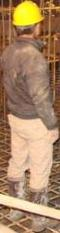boots: (7, 178, 28, 220), (29, 188, 49, 231)
gloves: (45, 128, 60, 144), (1, 0, 1, 0)
hard-hat: (12, 0, 45, 27)
